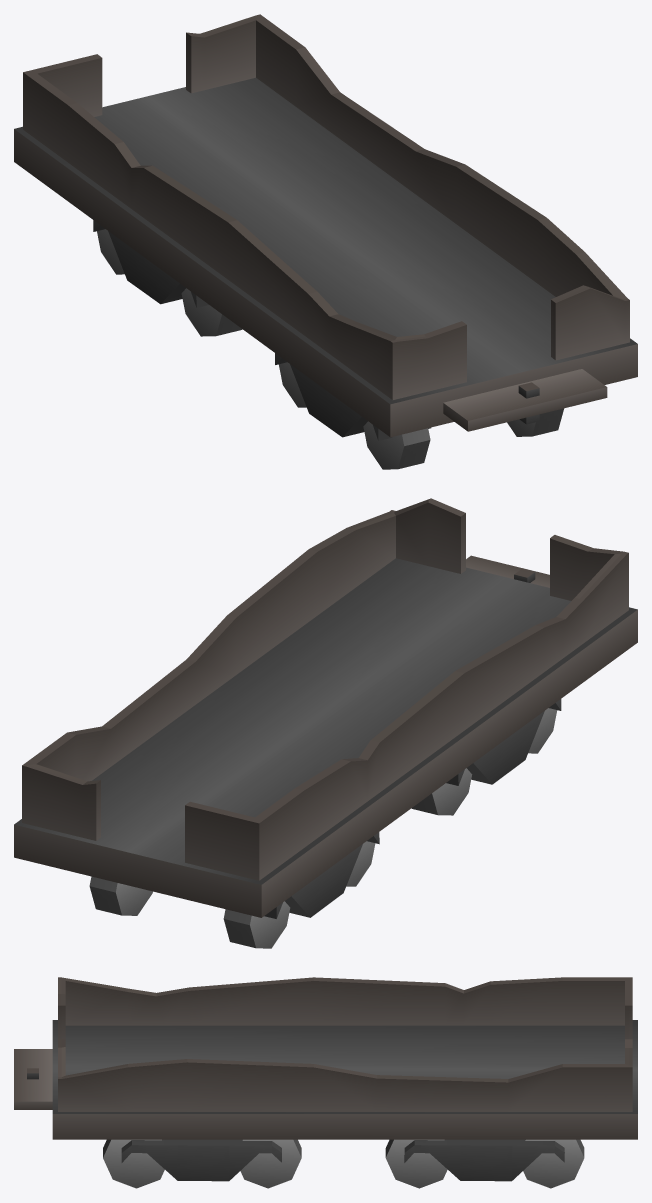
File: WagonDestroyed.fbx
The picture shows the model from 3 angles, top to bottom: view 1: azimuth 30°, elevation 25°; view 2: azimuth 150°, elevation 25°; view 3: azimuth 270°, elevation 25°; orthographic projection. The views are drawn at different scales.
Visible parts, largest first — view 1: Floor, Body, M_Joint_Base, M_Joint_2, M_Wheel_Base, M_Wheel_3, M_Wheel_5; view 2: Floor, Body, M_Joint_2, M_Joint_Base, M_Wheel_4, M_Wheel_8, M_Wheel_2, M_Wheel_3, M_Wheel_Base; view 3: Body, Floor, M_Joint_3, M_Joint_4, M_Wheel_7, M_Wheel_8, M_Wheel_5, M_Wheel_6.
Part boxes in pixels (<box>): Floor: <box>14,77,637,437</box>; Body: <box>23,14,629,399</box>; M_Joint_Base: <box>275,353,431,440</box>; M_Joint_2: <box>93,220,208,307</box>; M_Wheel_Base: <box>363,421,430,469</box>; M_Wheel_3: <box>181,288,242,336</box>; M_Wheel_5: <box>507,408,563,436</box>; Floor: <box>14,555,637,917</box>; Body: <box>22,498,628,880</box>; M_Joint_2: <box>264,832,379,918</box>; M_Joint_Base: <box>446,699,561,785</box>; M_Wheel_4: <box>223,901,290,948</box>; M_Wheel_8: <box>89,876,152,915</box>; M_Wheel_2: <box>411,768,472,815</box>; M_Wheel_3: <box>346,841,375,886</box>; M_Wheel_Base: <box>528,708,557,753</box>; Body: <box>58,977,632,1111</box>; Floor: <box>14,1020,637,1139</box>; M_Joint_3: <box>121,1139,281,1181</box>; M_Joint_4: <box>404,1139,564,1181</box>; M_Wheel_7: <box>385,1139,447,1188</box>; M_Wheel_8: <box>523,1139,584,1188</box>; M_Wheel_5: <box>103,1139,164,1188</box>; M_Wheel_6: <box>240,1139,301,1188</box>.
Size of the model in its own units: 338 by 235 by 949.
